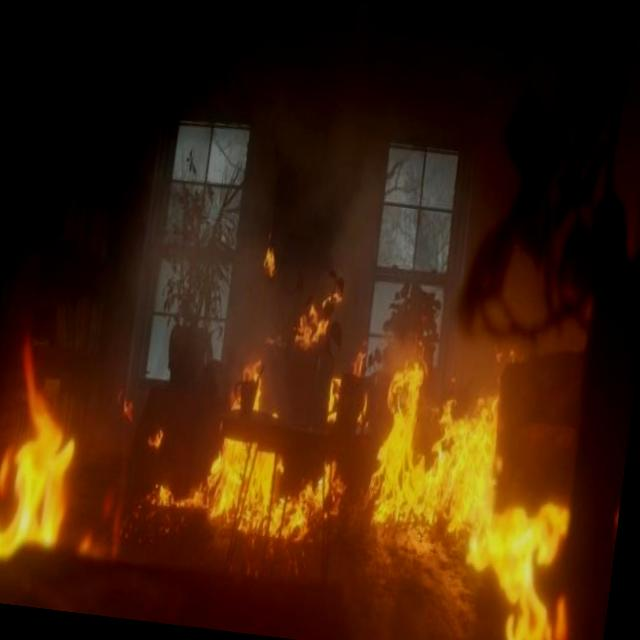fire: (0, 330, 605, 640)
